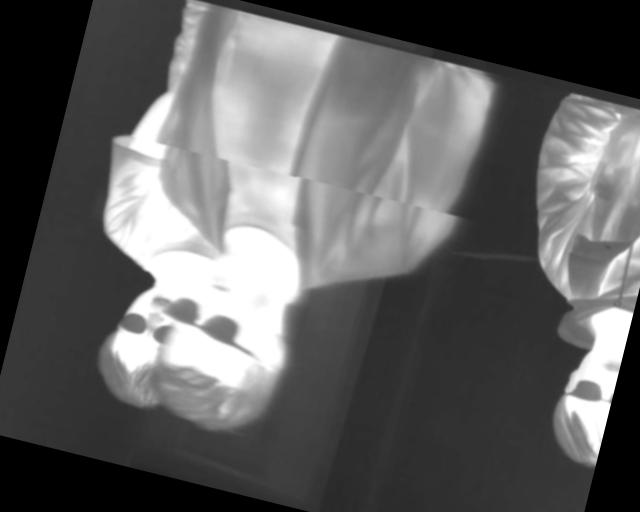face: (147, 242, 307, 446), (86, 274, 187, 415), (542, 334, 624, 470)
